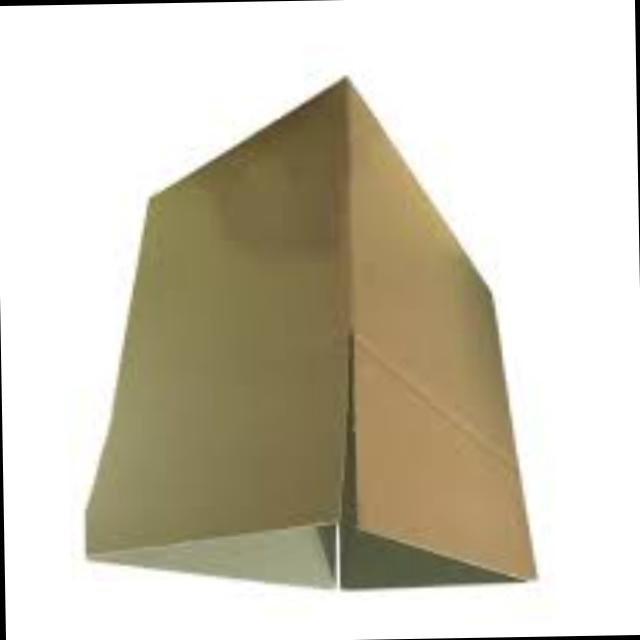cardboard paper: (82, 87, 530, 592)
